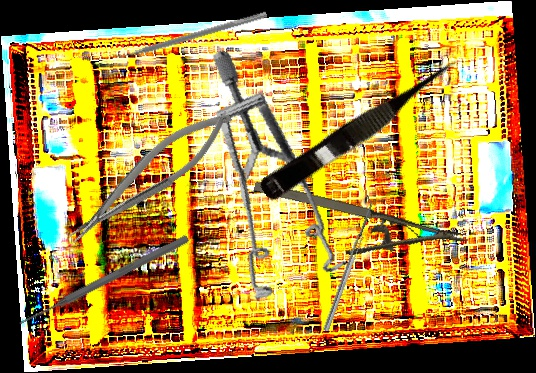Micro Scissor: (257, 51, 469, 208)
Needle Holder: (55, 99, 243, 252), (243, 175, 470, 285)
Pusher: (15, 232, 191, 330)
Spatula Surgical: (111, 5, 268, 64), (318, 194, 377, 332)
Speculum: (157, 48, 389, 320)
